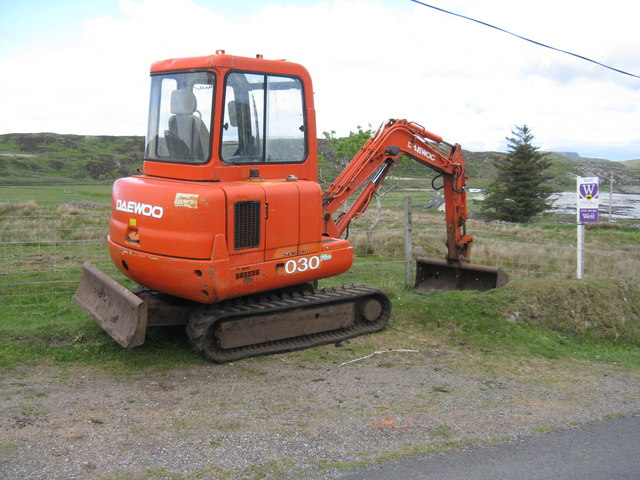excavator: (71, 41, 499, 366)
